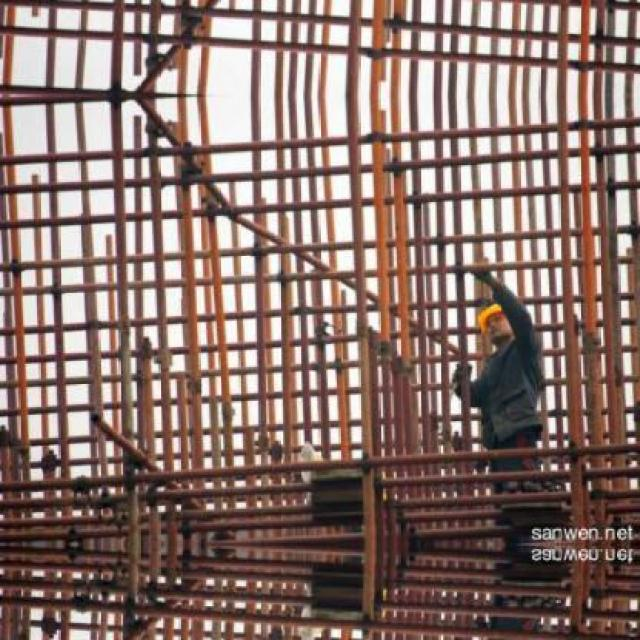hat: (474, 298, 511, 333)
